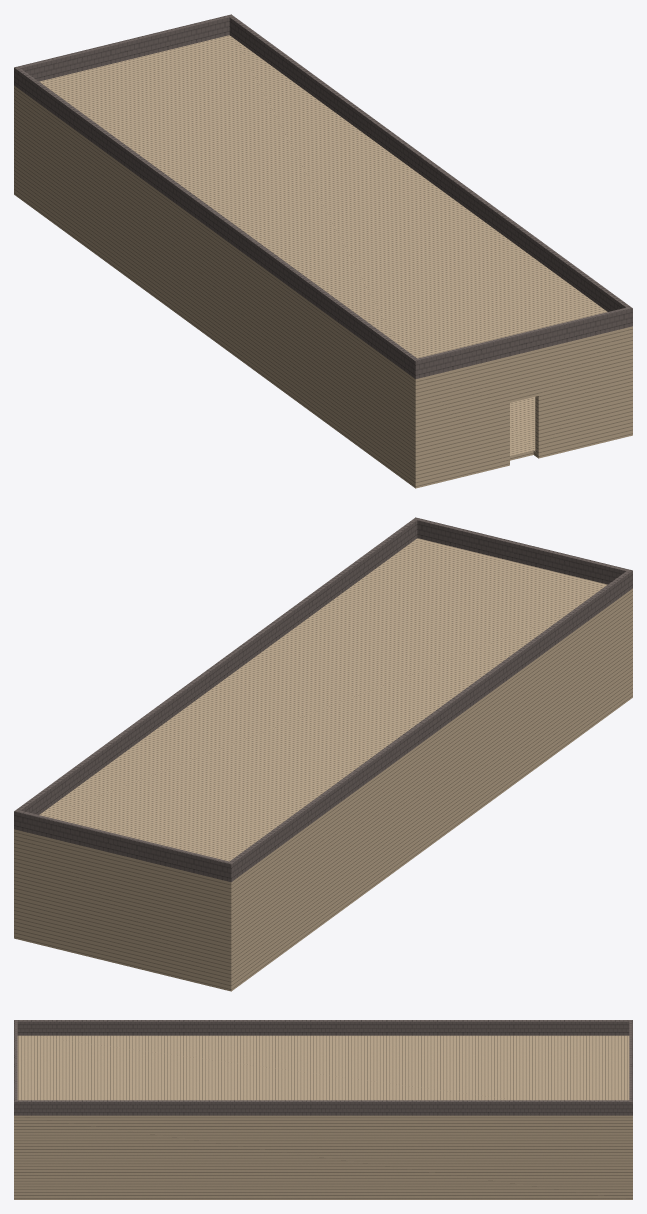
File: storefront_general.glb
The picture shows the model from 3 angles, top to bottom: view 1: azimuth 30°, elevation 25°; view 2: azimuth 150°, elevation 25°; view 3: azimuth 270°, elevation 25°; orthographic projection. The views are drawn at different scales.
Parts seen in each view (by area): view 1: storefront_general-col; view 2: storefront_general-col; view 3: storefront_general-col.
Part boxes in pixels (x1,y1,x2,y2): storefront_general-col: (14, 14, 632, 488); storefront_general-col: (14, 517, 632, 991); storefront_general-col: (14, 1020, 632, 1199).
Bounding box in the file's own units: 7.62 × 4.26 × 24.38.
Materials: 2 (2 with a texture image).
